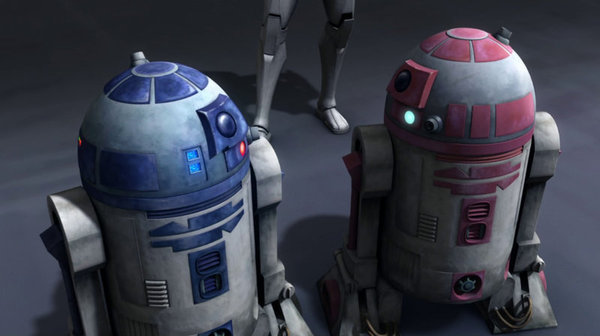r2d2: (55, 53, 309, 335), (358, 28, 560, 335)
